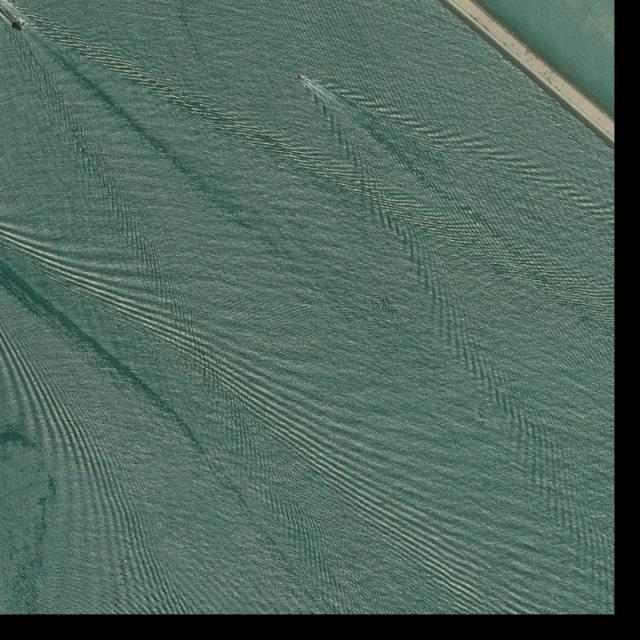ship: (298, 74, 307, 82)
